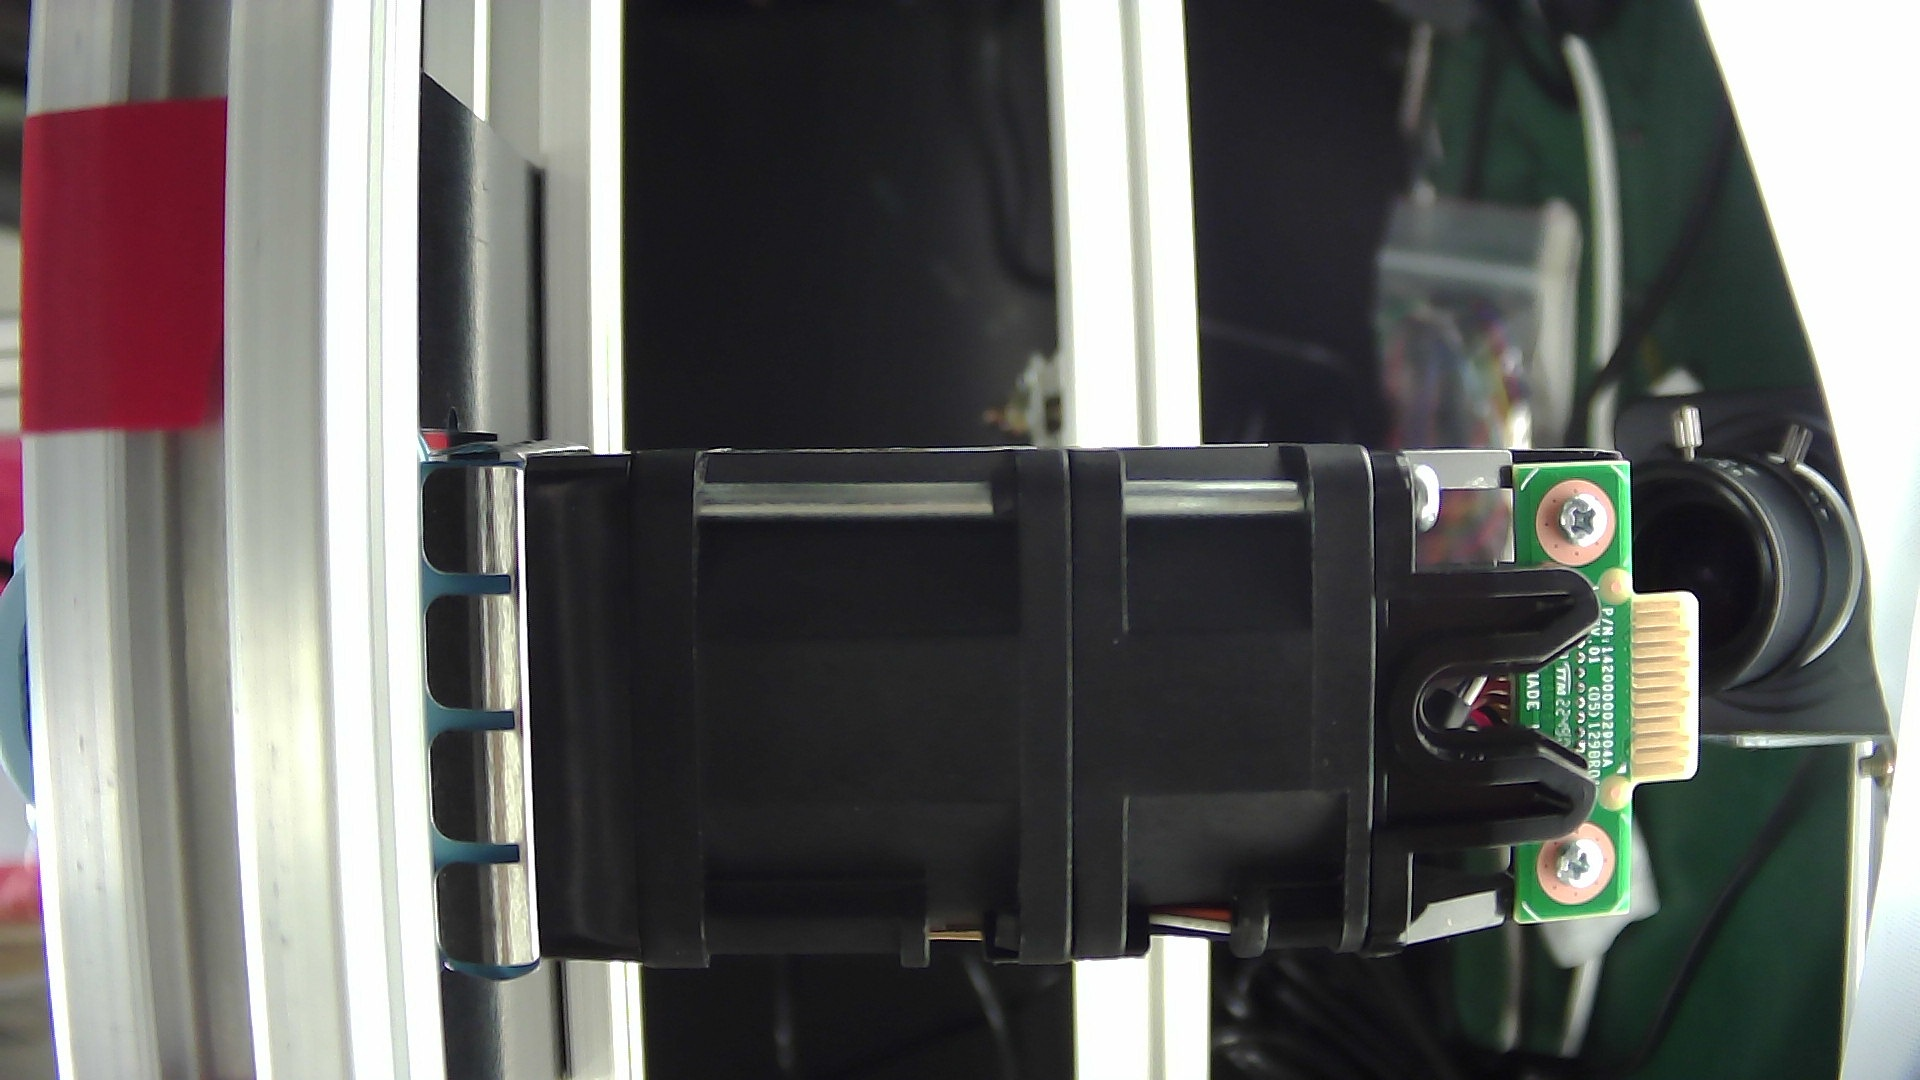4_0: (384, 405, 1716, 988)
